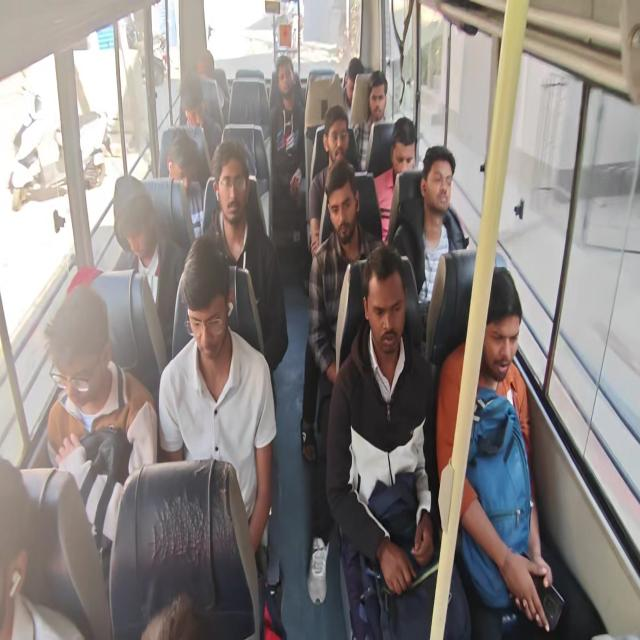person: (36, 286, 122, 419), (468, 258, 554, 384), (178, 238, 240, 356), (362, 230, 408, 370), (1, 434, 32, 640), (108, 172, 164, 266), (126, 584, 218, 637), (205, 137, 261, 224), (324, 165, 360, 260), (422, 142, 458, 220), (387, 112, 423, 188), (159, 136, 200, 199), (322, 112, 356, 170), (179, 75, 209, 134), (365, 65, 391, 122), (274, 47, 296, 103), (339, 55, 362, 99), (193, 46, 221, 76)
